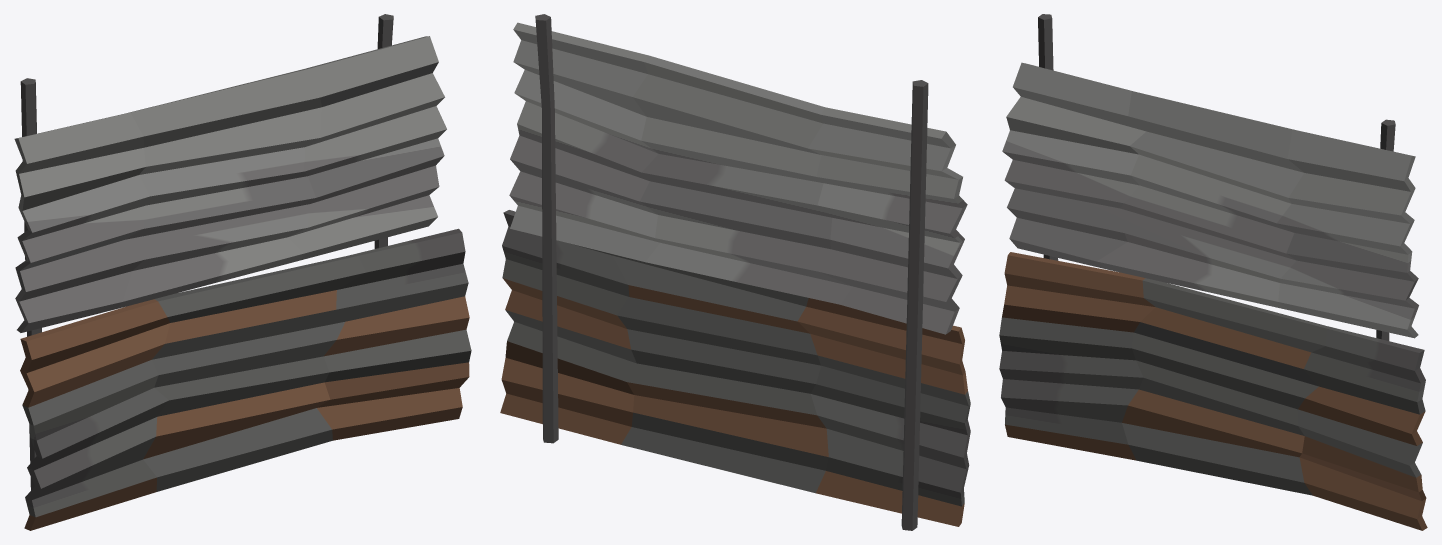
Rendered from SM_Prop_Fence_MetalSheet_01.glb.
3 views of the same model, side by side, from view 1: azimuth 30°, elevation 25°; view 2: azimuth 150°, elevation 25°; view 3: azimuth 330°, elevation 25° (orthographic). The views are drawn at different scales.
Visible parts, largest first — view 1: SM_Prop_Fence_MetalSheet_01; view 2: SM_Prop_Fence_MetalSheet_01; view 3: SM_Prop_Fence_MetalSheet_01.
Part boxes in pixels (left/top/right/bottom): SM_Prop_Fence_MetalSheet_01: left=14, top=14, right=471, bottom=530; SM_Prop_Fence_MetalSheet_01: left=500, top=14, right=970, bottom=530; SM_Prop_Fence_MetalSheet_01: left=999, top=14, right=1427, bottom=530.
Bounding box in the file's own units: 2.63 × 2.45 × 0.3708.
Materials: 1 (1 with a texture image).
